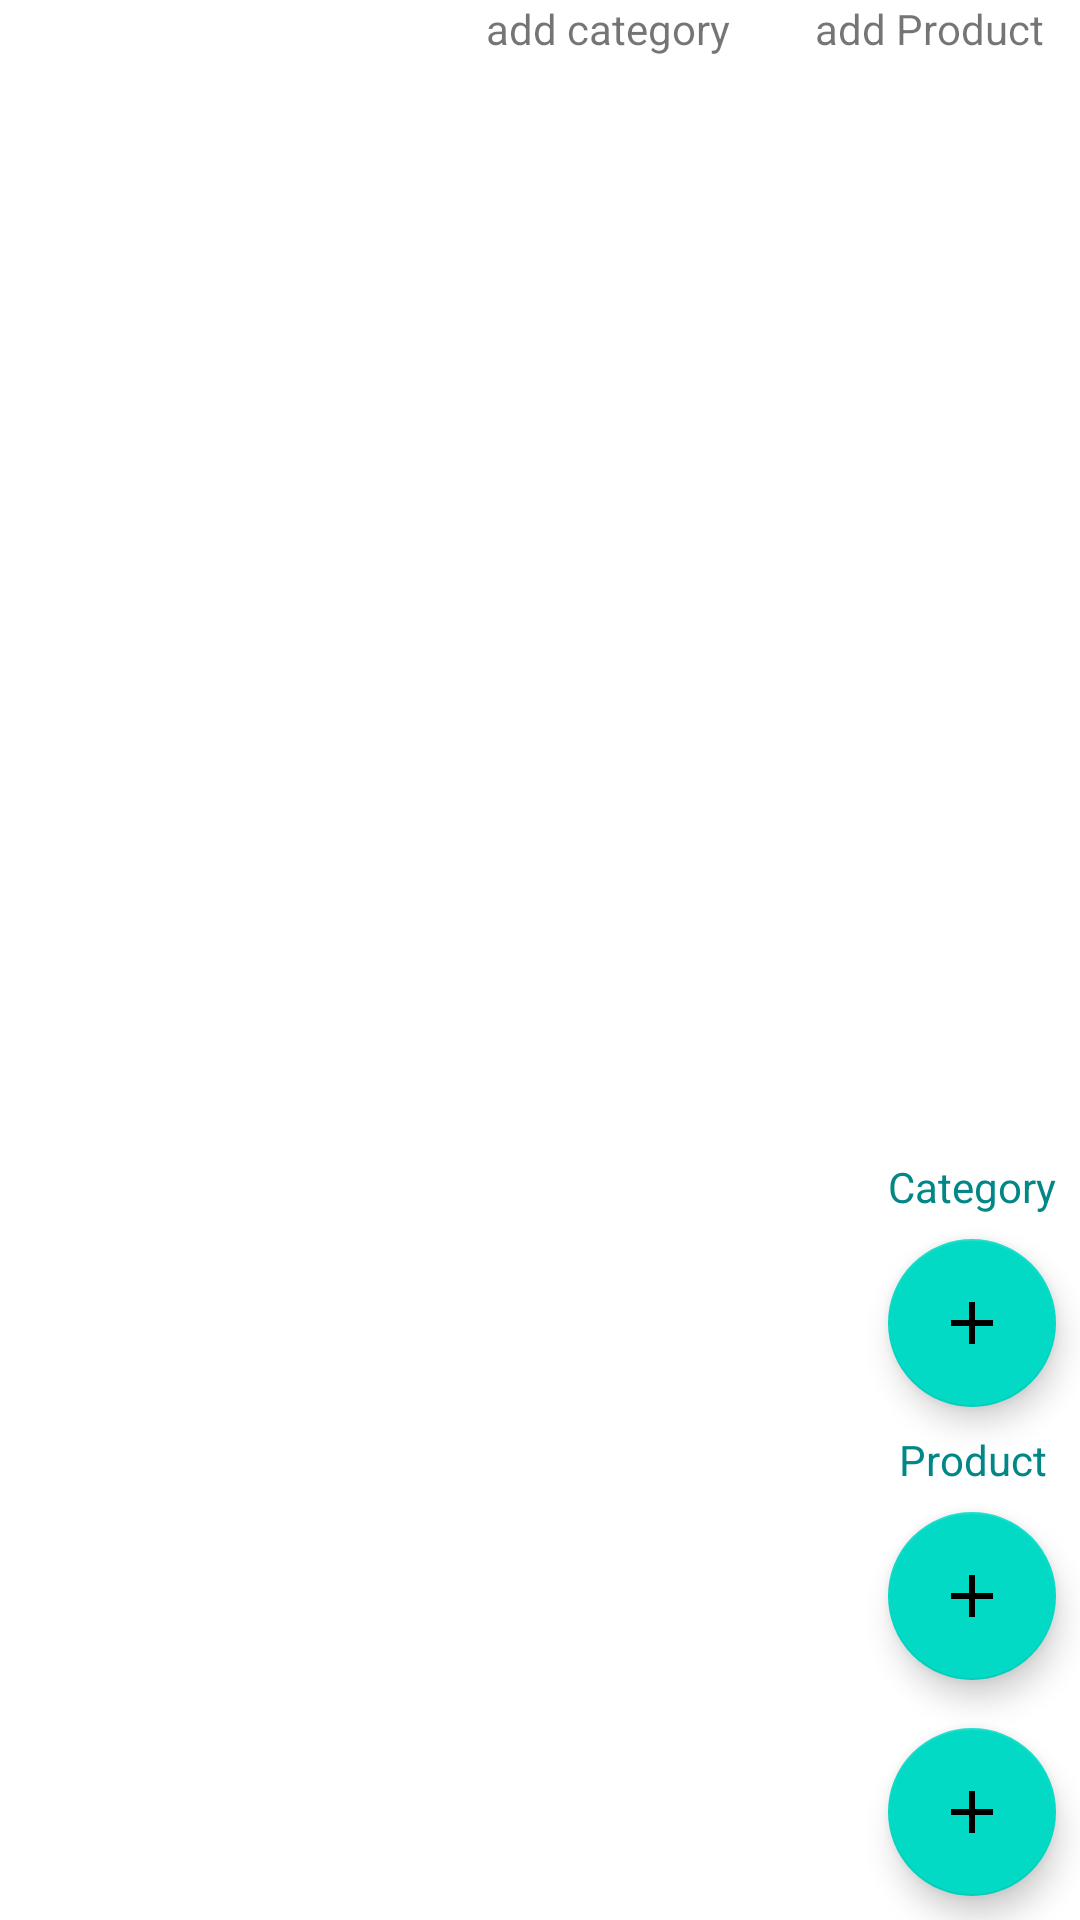

Screen size 1080x1920. Icon name, then its center in pixels as [x,y]:
add: [972,1323], [972,1596], [972,1812]
